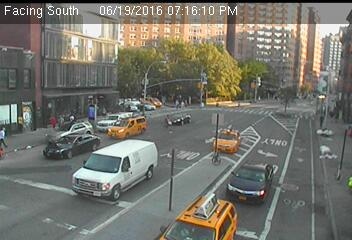neg: (142, 134, 167, 168), (259, 108, 281, 137), (207, 109, 228, 137), (3, 174, 23, 201)
pos: (1, 125, 19, 150), (55, 114, 69, 132), (65, 111, 78, 129), (44, 115, 56, 132)
